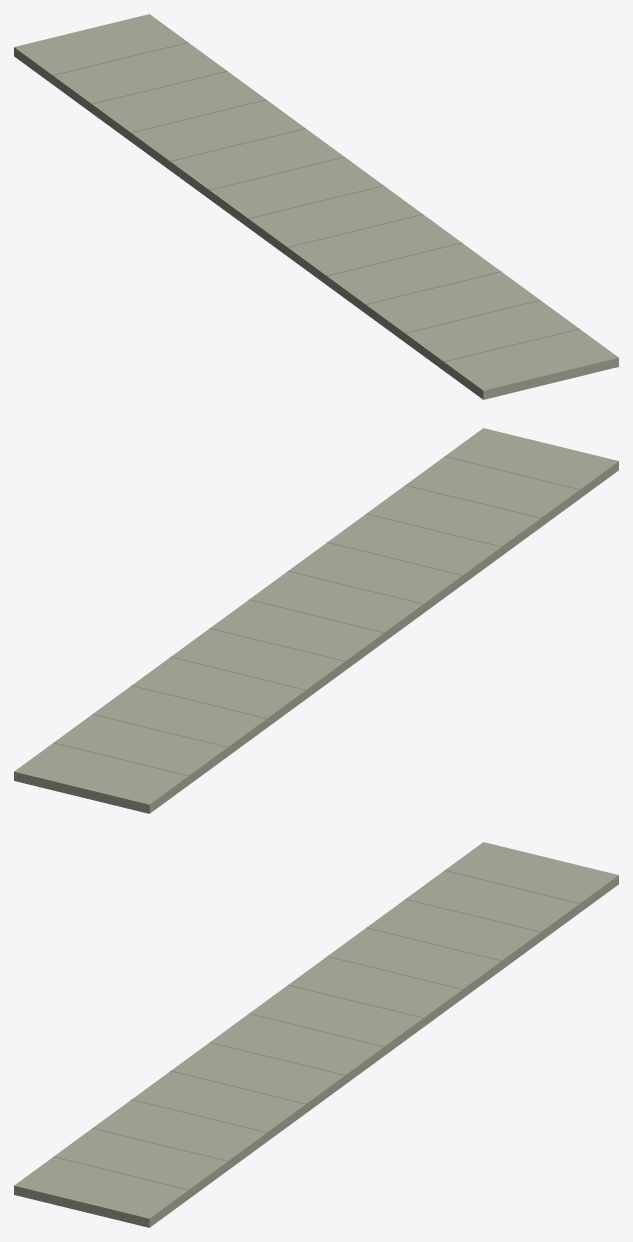
The model's file is SidewalkStraight.obj.
The picture shows the model from 3 angles, top to bottom: view 1: azimuth 30°, elevation 25°; view 2: azimuth 150°, elevation 25°; view 3: azimuth 330°, elevation 25°; orthographic projection.
Visible parts, largest first — view 1: SidewalkStraight; view 2: SidewalkStraight; view 3: SidewalkStraight.
Boxes of the visible parts, bbox=[...] form: SidewalkStraight: bbox=[14, 14, 618, 399]; SidewalkStraight: bbox=[14, 428, 618, 813]; SidewalkStraight: bbox=[14, 842, 618, 1227].
Size of the model in its own units: 2 by 0.133 by 12.
